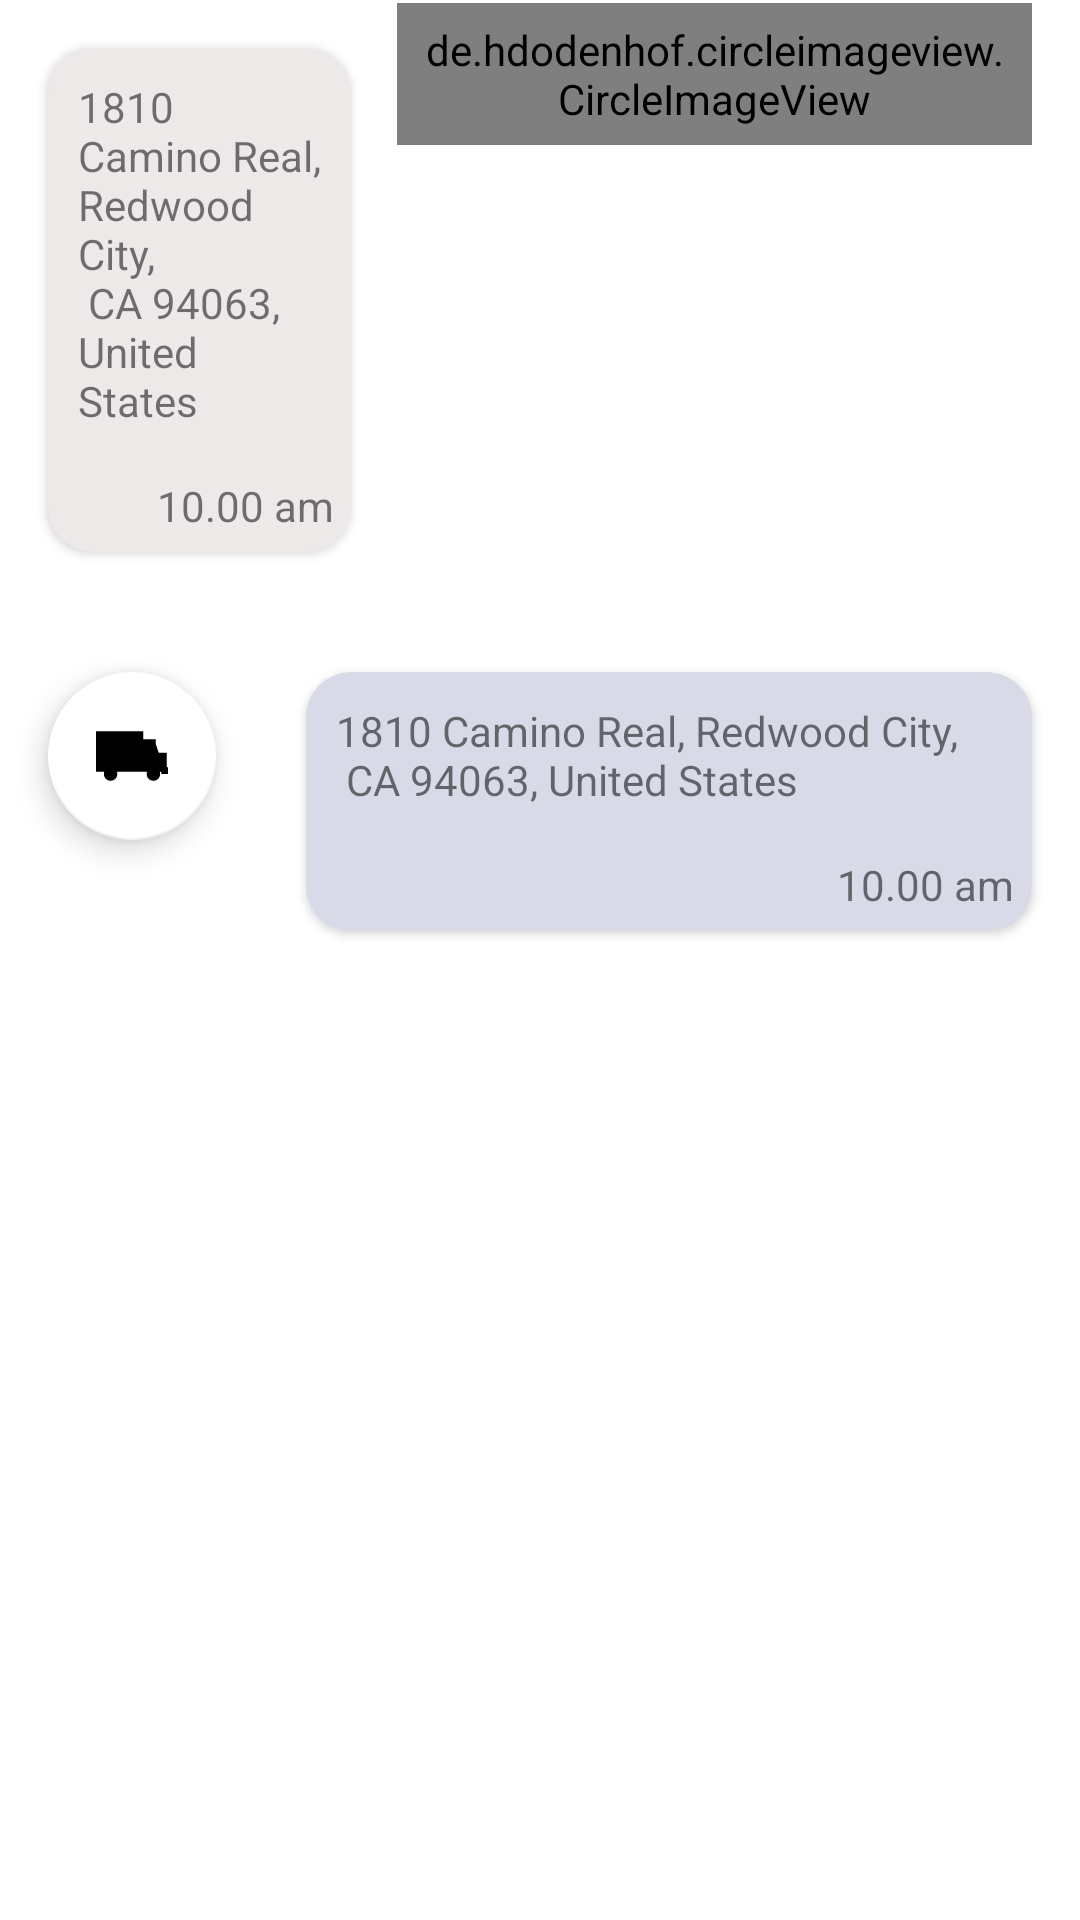

Screen size 1080px x 1920px. Icon name, then its box in pixels as [left=x1, top=y1, right=x2, bottom=y2]:
truck: [left=48, top=730, right=197, bottom=840]
